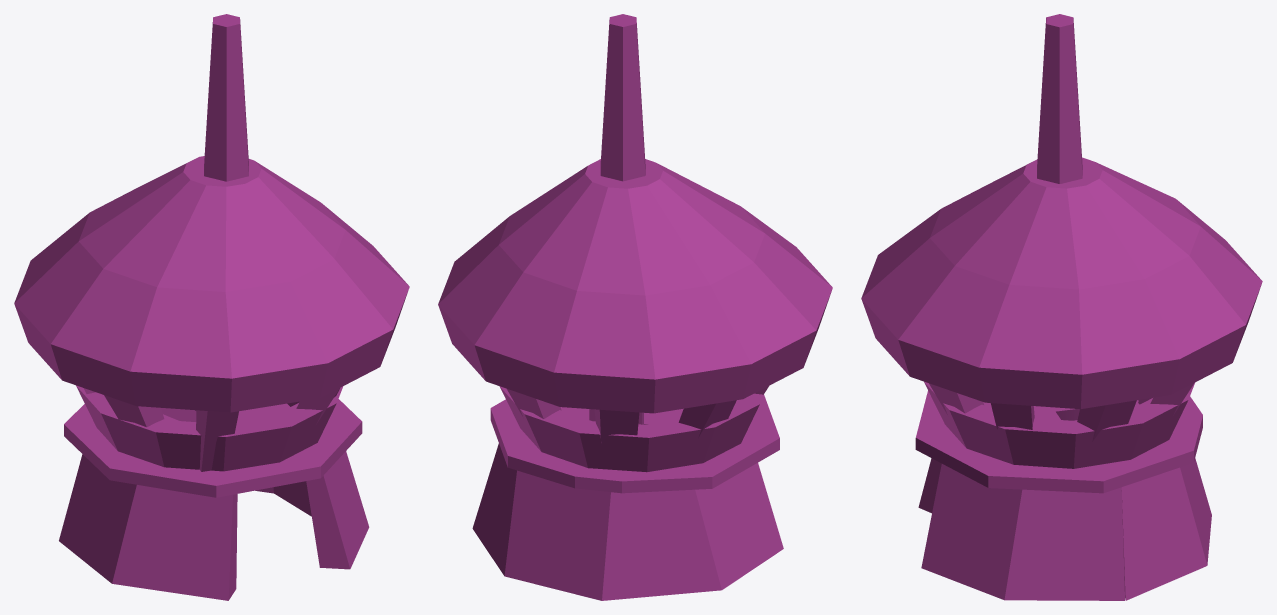
File: SM_Bld_Tent_Leader_03_Collision.fbx
3 views of the same model, side by side, from view 1: azimuth 30°, elevation 25°; view 2: azimuth 150°, elevation 25°; view 3: azimuth 270°, elevation 25° (orthographic).
Visible parts, largest first — view 1: SM_Bld_Tent_Leader_03_Collision; view 2: SM_Bld_Tent_Leader_03_Collision; view 3: SM_Bld_Tent_Leader_03_Collision.
Boxes of the visible parts, x1=… form: SM_Bld_Tent_Leader_03_Collision: x1=14, y1=14, x2=409, y2=600; SM_Bld_Tent_Leader_03_Collision: x1=438, y1=14, x2=832, y2=600; SM_Bld_Tent_Leader_03_Collision: x1=861, y1=14, x2=1262, y2=600.
Size of the model in its own units: 838 by 1204 by 838.
